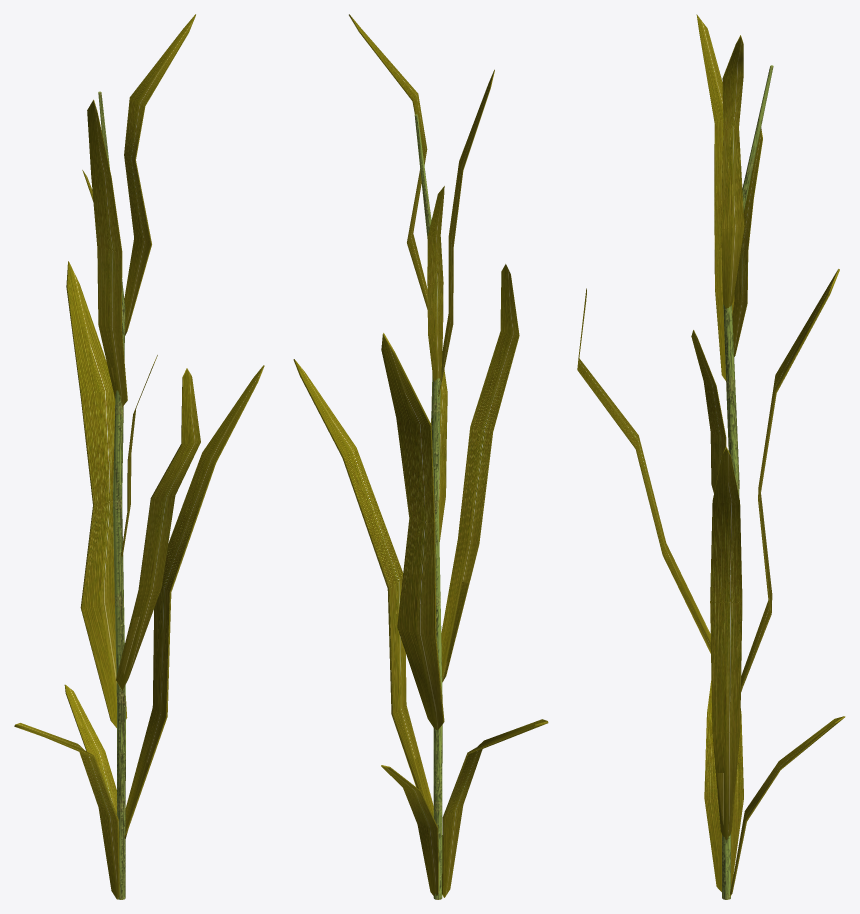
File: mais_1.FBX
The picture shows the model from 3 angles, left to right: view 1: azimuth 30°, elevation 25°; view 2: azimuth 150°, elevation 25°; view 3: azimuth 270°, elevation 25°; orthographic projection. The views are drawn at different scales.
Visible parts, largest first — view 1: Box006; view 2: Box006; view 3: Box006.
Part boxes in pixels (<box>): Box006: <box>14,14,264,899</box>; Box006: <box>293,14,548,899</box>; Box006: <box>577,14,845,899</box>.
Bounding box in the file's own units: 74.65 × 244 × 65.58.
